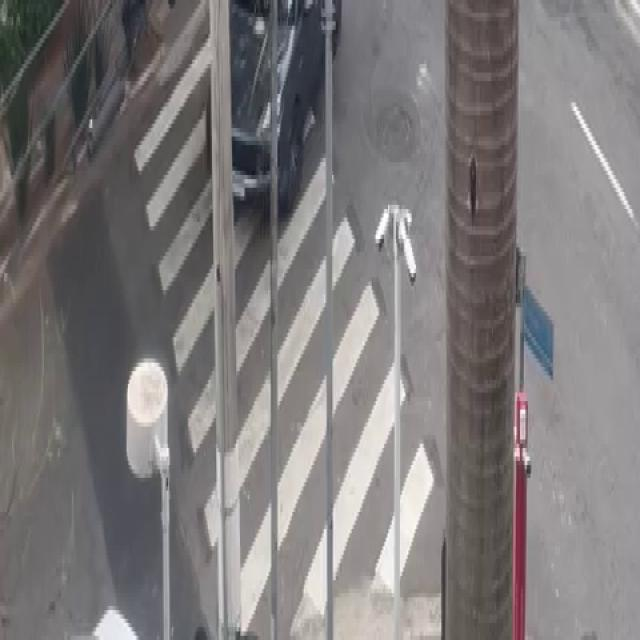car: (201, 5, 343, 236)
